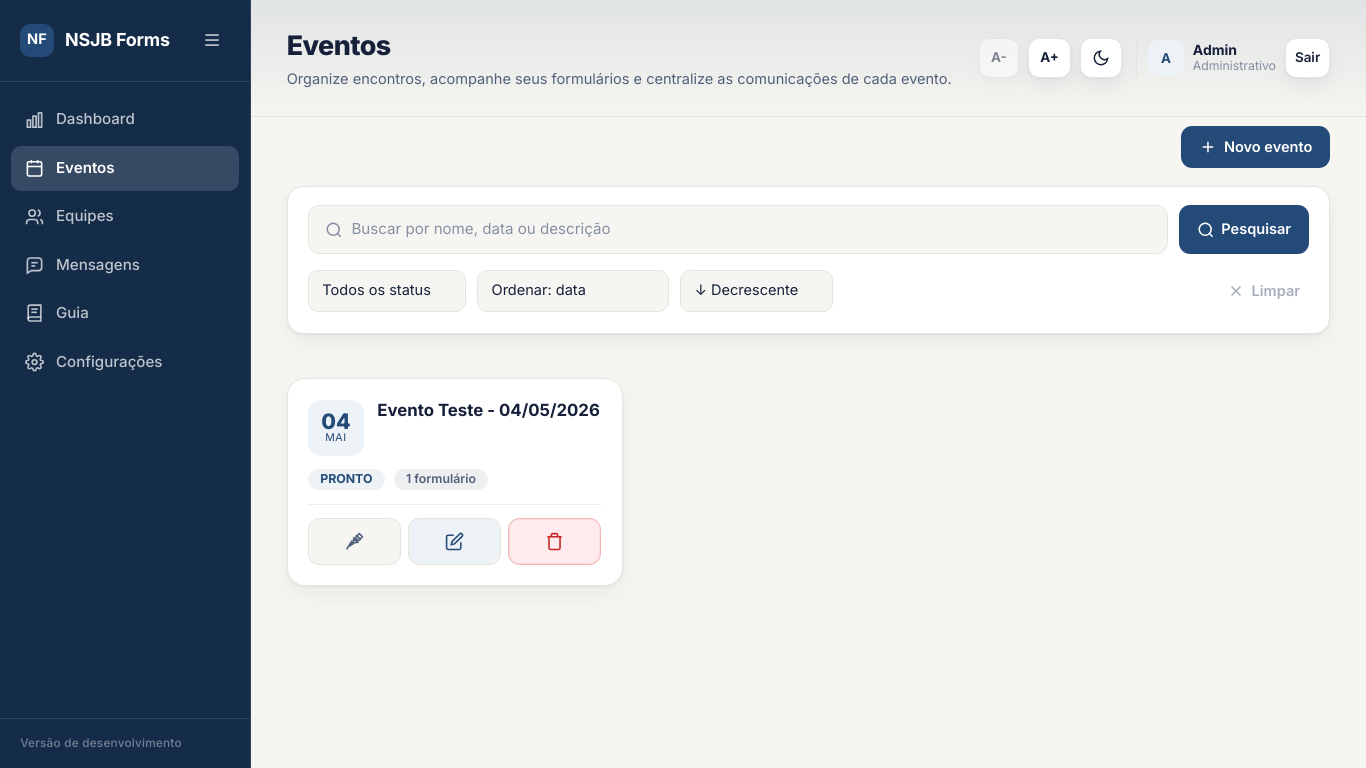
Test: App save flow › abre uma copia como novo formulario em rascunho e salva sem reutilizar id ou slug
The width and height of the screenshot is (1366, 768).
Click the text "Evento Teste - 04/05/2026".
click(489, 410)  # box [377, 400, 601, 421]
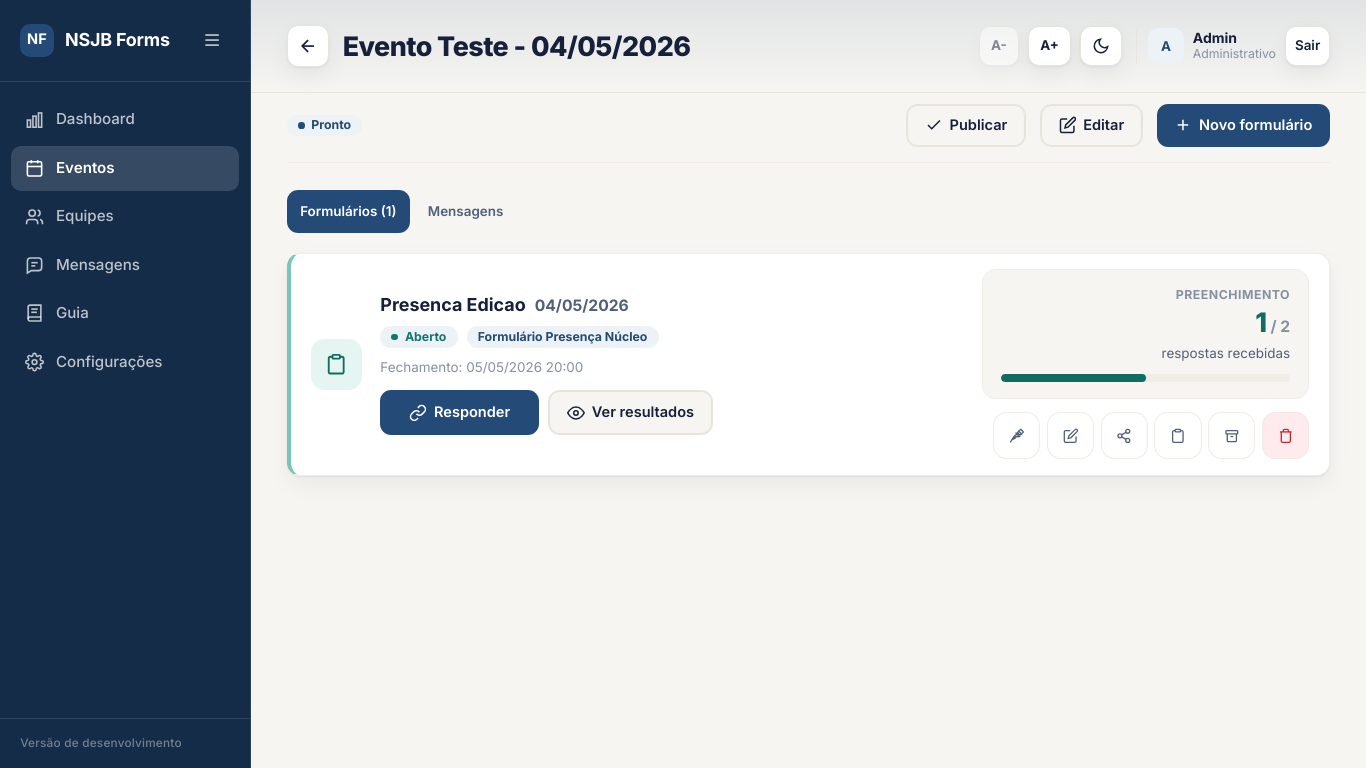
Now the text "Presenca Edicao" is shown, box [380, 294, 526, 317]
Click the button named "Duplicar".
click(1178, 436)  # box [1154, 412, 1202, 459]
(page scrolled)
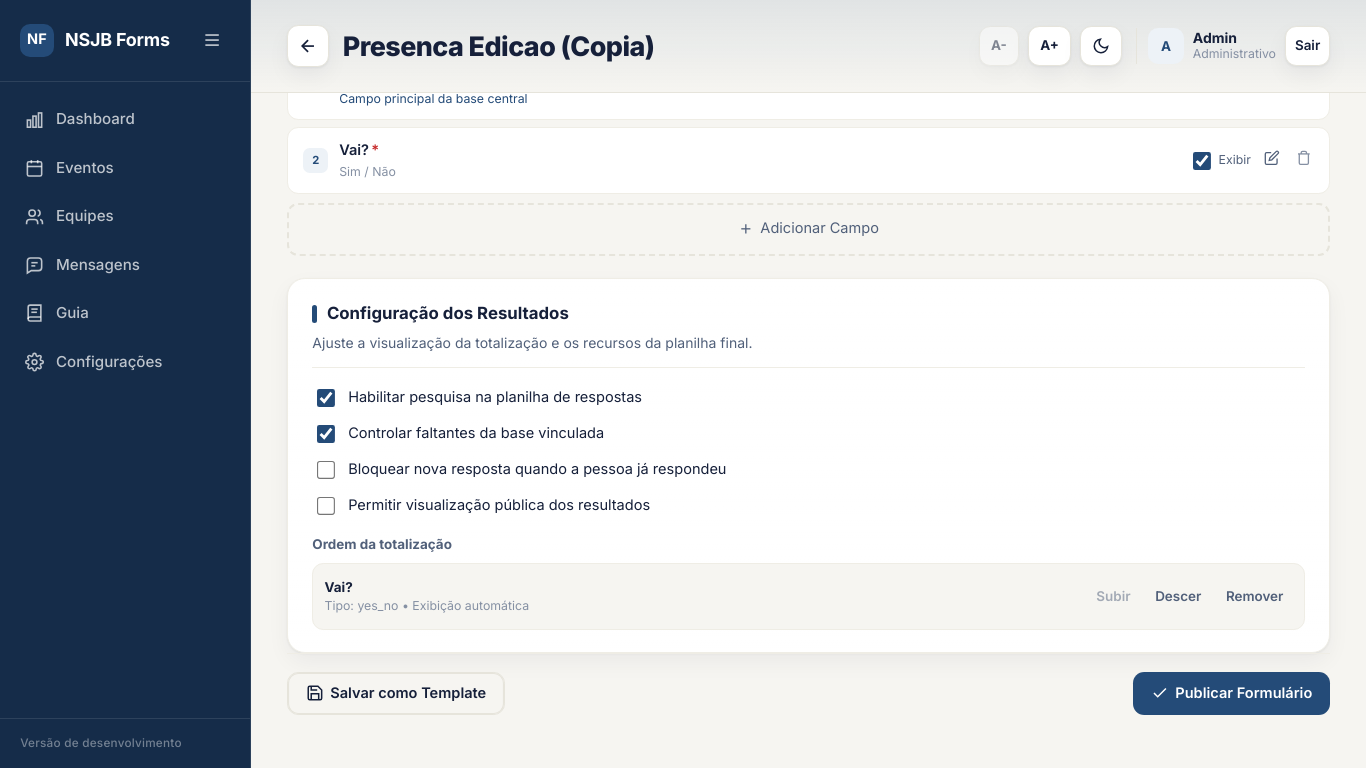
Click the button "Publicar Formulário".
click(1232, 693)  # box [1133, 672, 1330, 715]
(page scrolled)
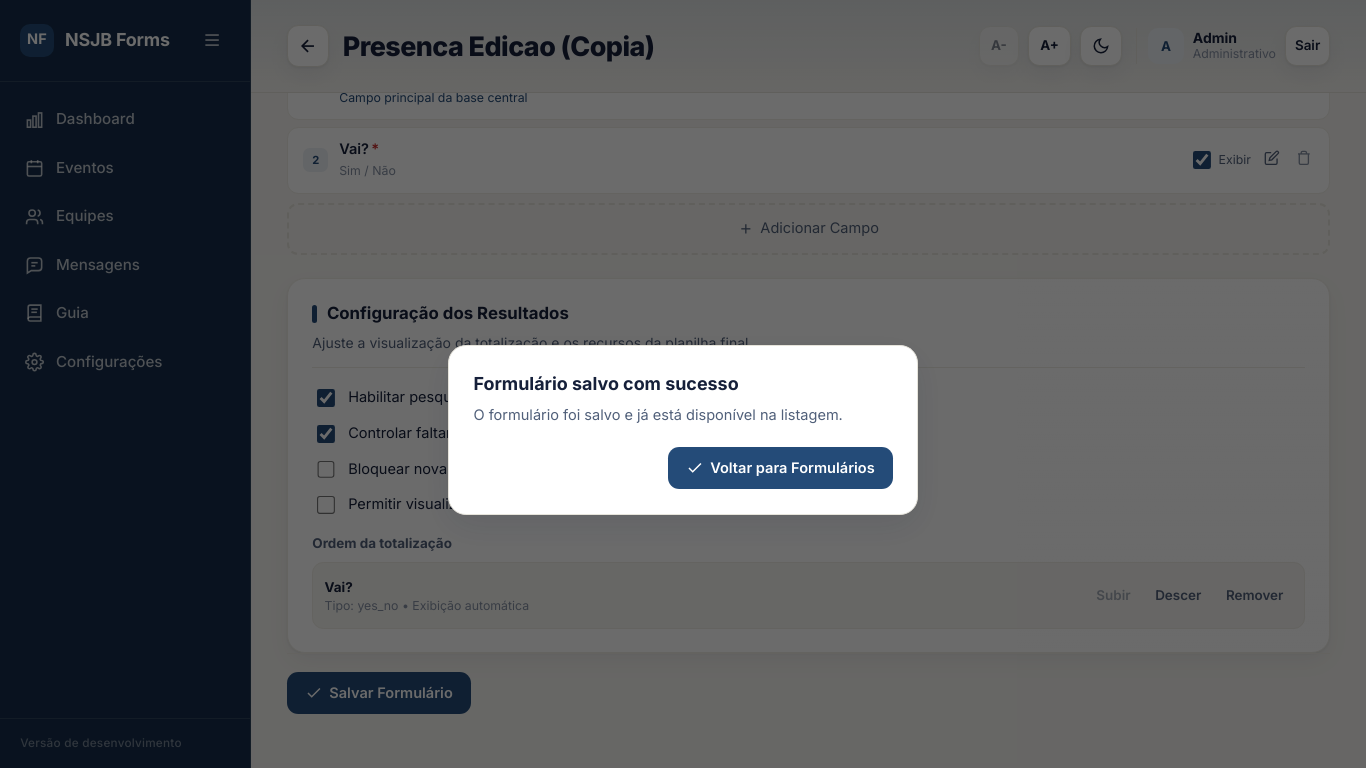
Now the heading "Presenca Edicao (Copia)" is shown, box [343, 26, 655, 66]
Now the heading "Formulário salvo com sucesso" is shown, box [473, 373, 739, 394]
